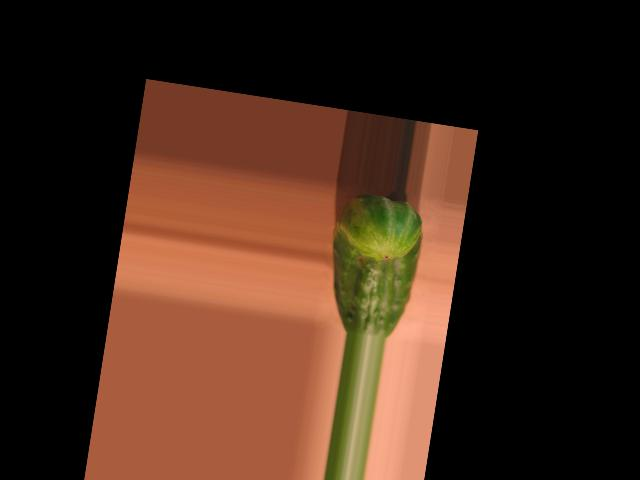cucumber: (319, 190, 428, 342)
